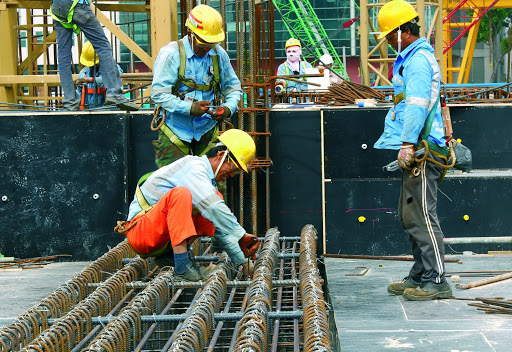Hard Hat: (204, 130, 257, 182), (374, 1, 423, 55), (183, 5, 226, 58), (80, 42, 103, 72), (284, 41, 303, 62), (317, 53, 334, 72)
Person: (374, 1, 460, 300), (135, 129, 258, 280), (151, 8, 232, 168), (51, 1, 140, 111), (75, 42, 123, 108), (276, 43, 314, 105), (317, 53, 344, 87)
